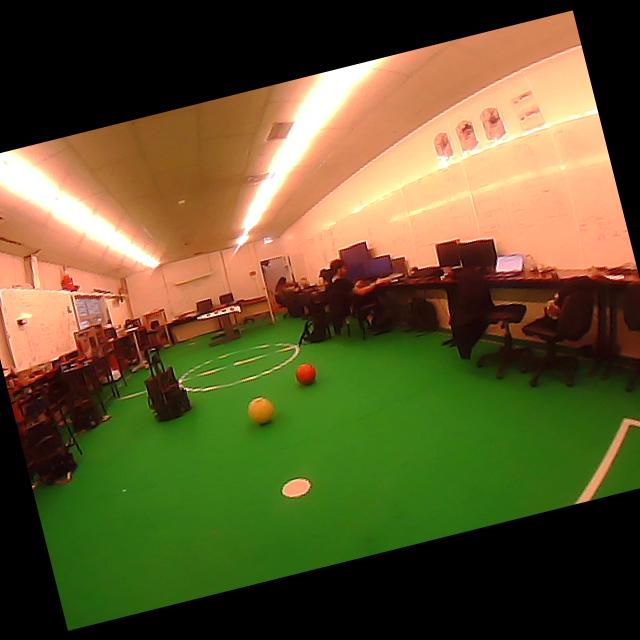ball: (247, 396, 274, 424), (296, 363, 315, 384)
robot: (11, 391, 76, 483), (144, 347, 190, 421)
